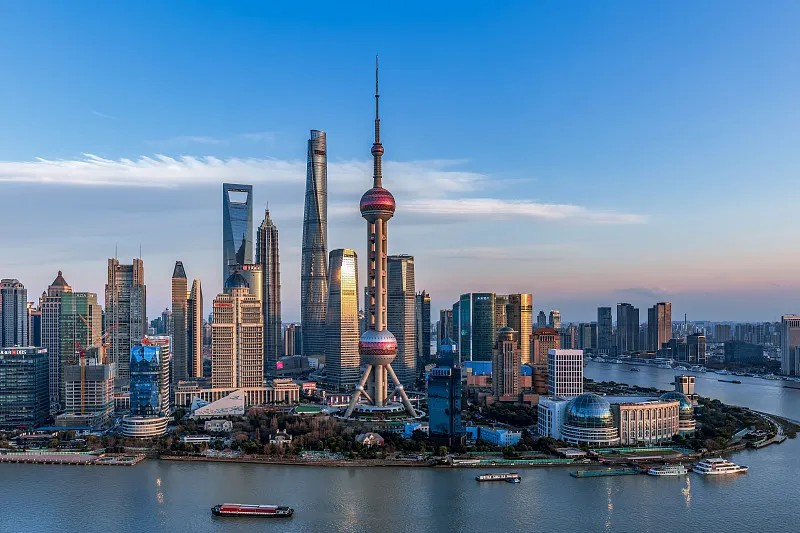Oriental: (345, 53, 416, 417)
